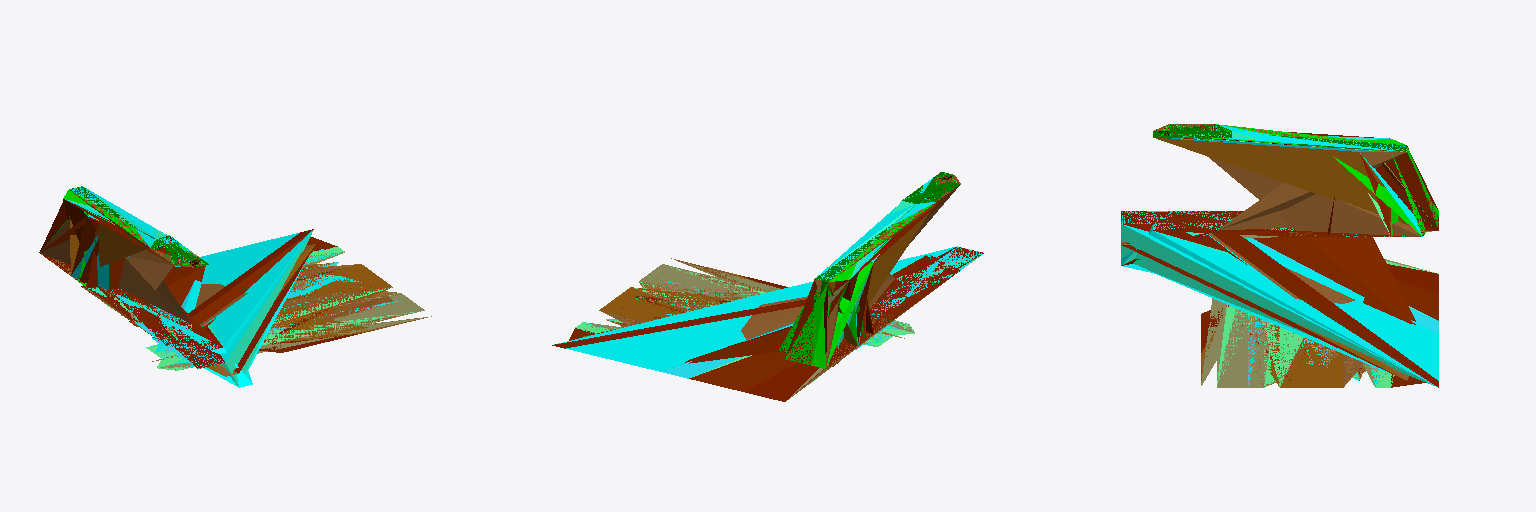
The picture shows the model from 3 angles: view 1: azimuth 30°, elevation 25°; view 2: azimuth 150°, elevation 25°; view 3: azimuth 270°, elevation 25°; orthographic projection.
Size of the model in its own units: 20 by 9 by 20.
Materials: 1 (1 with a texture image).